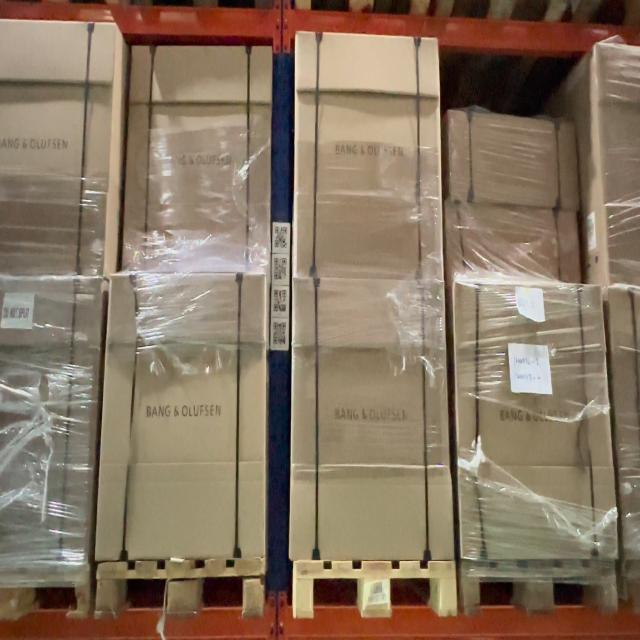box: (94, 278, 265, 557), (291, 283, 456, 559), (454, 281, 616, 560), (298, 36, 441, 280), (122, 49, 272, 269), (449, 117, 579, 206), (447, 212, 583, 278)
